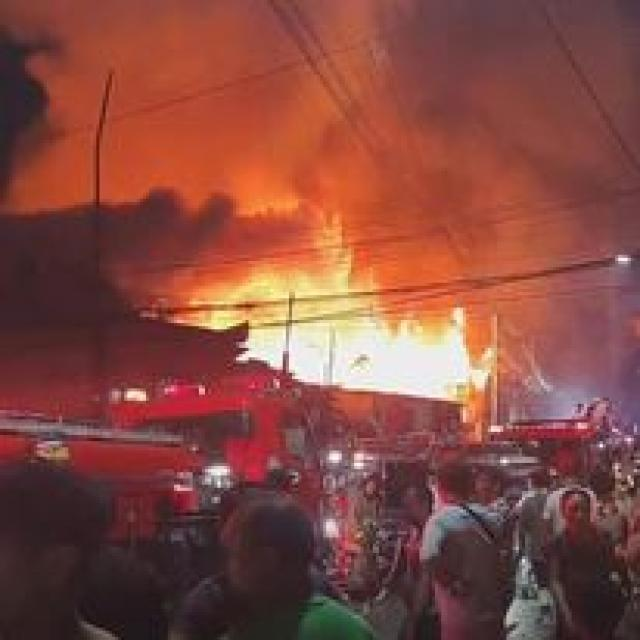Fire: (259, 286, 487, 406)
Smoke: (16, 3, 404, 275), (393, 0, 640, 272)
